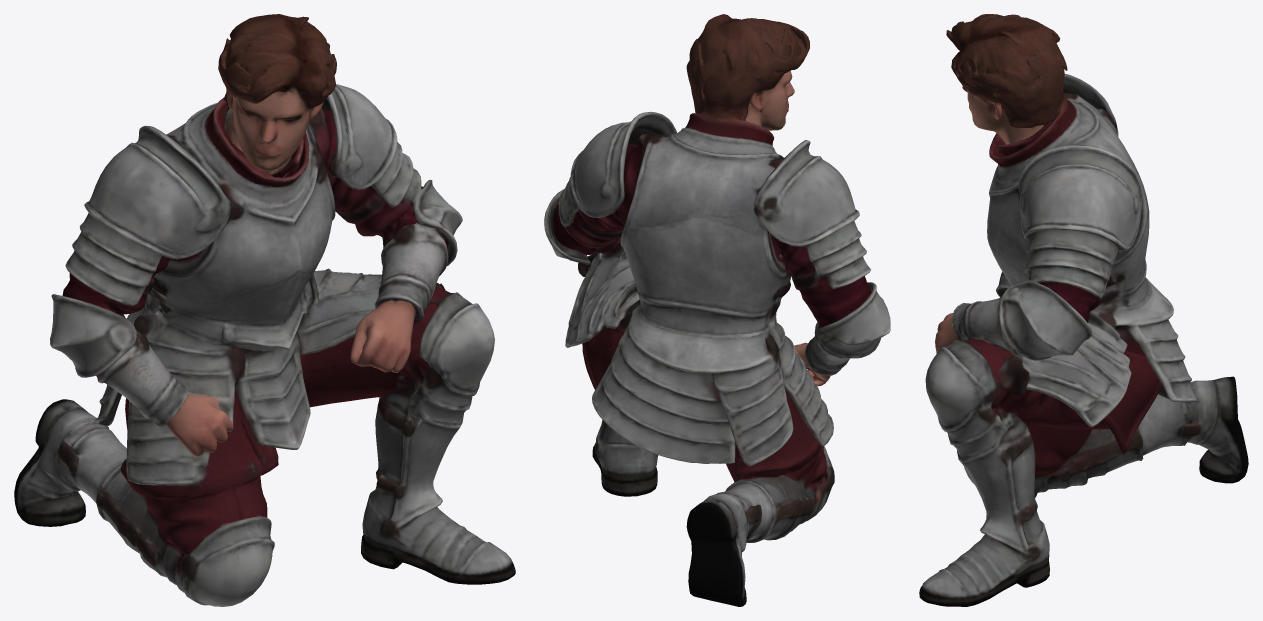
The model's file is generation_knight_0.glb.
3 renders of one model, left to right at view 1: azimuth 30°, elevation 25°; view 2: azimuth 150°, elevation 25°; view 3: azimuth 270°, elevation 25°, orthographic. The views are drawn at different scales.
Visible parts, largest first — view 1: geometry_0; view 2: geometry_0; view 3: geometry_0.
Part boxes in pixels (x1,y1,x2,y2): geometry_0: (14, 14, 515, 606); geometry_0: (544, 14, 890, 606); geometry_0: (919, 14, 1248, 606).
Size of the model in its own units: 0.744 by 1 by 0.5954.
1 material, 1 textured.
